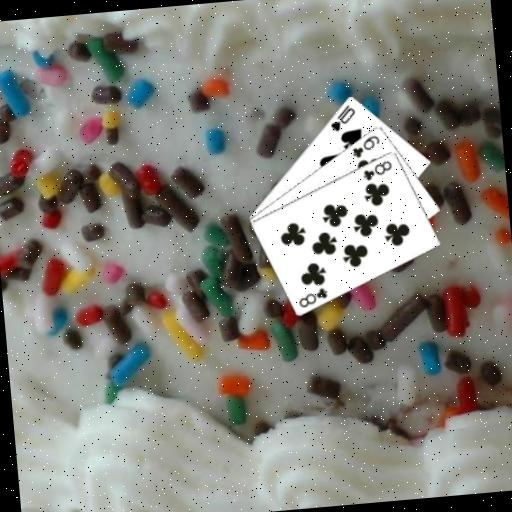10S: (325, 101, 358, 134)
6C: (349, 132, 384, 160)
8C: (359, 157, 395, 183), (295, 284, 331, 310)
